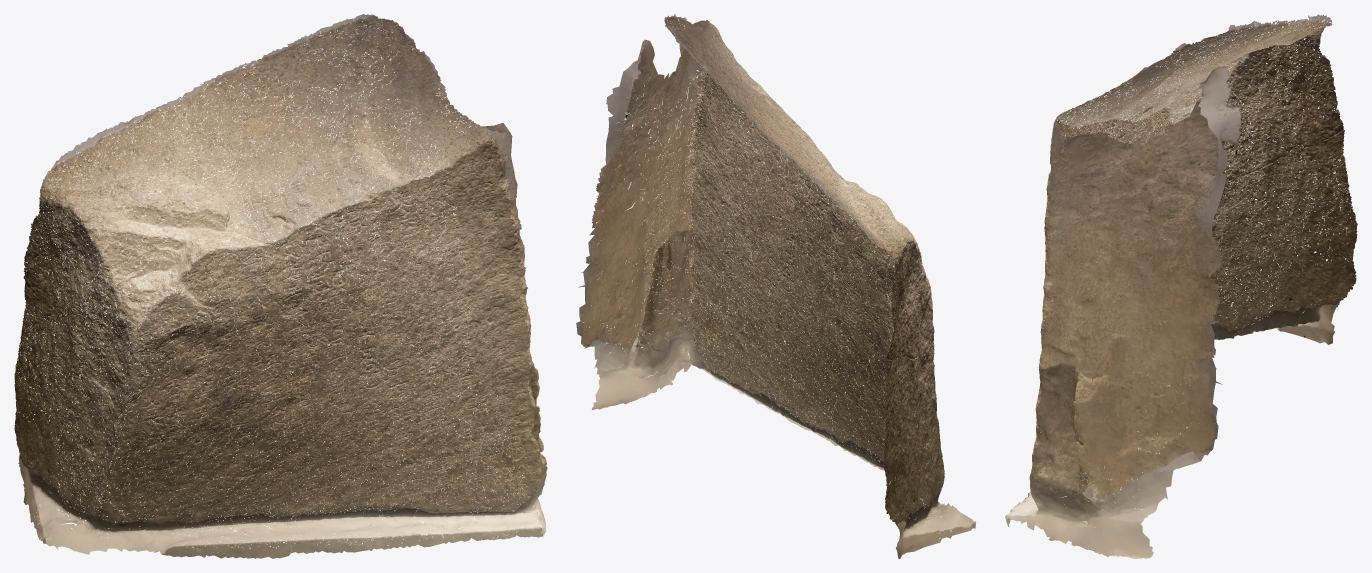
Rendered from naengsu.glb.
3 renders of one model, left to right at view 1: azimuth 30°, elevation 25°; view 2: azimuth 150°, elevation 25°; view 3: azimuth 270°, elevation 25°, orthographic. The views are drawn at different scales.
Parts seen in each view (by area): view 1: Object_4, Object_11, Object_6, Object_14, Object_2, Object_10, Object_12, Object_3, Object_7, Object_8, Object_15, Object_13 (+4 smaller); view 2: Object_2, Object_10, Object_11, Object_12, Object_13, Object_15, Object_3, Object_5, Object_7, Object_14, Object_4, Object_8 (+4 smaller); view 3: Object_13, Object_2, Object_14, Object_5, Object_7, Object_16, Object_15, Object_10, Object_12, Object_8, Object_9, Object_17 (+2 smaller).
Part boxes in pixels (left/top/right/bottom): Object_4: left=82, top=195, right=427, bottom=551; Object_11: left=160, top=369, right=428, bottom=558; Object_6: left=197, top=14, right=508, bottom=301; Object_14: left=100, top=60, right=525, bottom=324; Object_2: left=189, top=216, right=542, bottom=553; Object_10: left=193, top=371, right=547, bottom=558; Object_12: left=93, top=232, right=530, bottom=547; Object_3: left=260, top=160, right=521, bottom=444; Object_7: left=24, top=18, right=546, bottom=552; Object_8: left=34, top=14, right=527, bottom=554; Object_15: left=44, top=84, right=546, bottom=556; Object_13: left=14, top=171, right=527, bottom=525; Object_2: left=578, top=171, right=895, bottom=443; Object_10: left=594, top=237, right=884, bottom=468; Object_11: left=753, top=263, right=908, bottom=475; Object_12: left=610, top=143, right=931, bottom=454; Object_13: left=596, top=71, right=960, bottom=517; Object_15: left=591, top=21, right=929, bottom=468; Object_3: left=695, top=95, right=855, bottom=368; Object_5: left=588, top=44, right=975, bottom=538; Object_7: left=624, top=14, right=921, bottom=440; Object_14: left=607, top=19, right=923, bottom=290; Object_4: left=753, top=111, right=943, bottom=507; Object_8: left=576, top=16, right=970, bottom=518; Object_13: left=1044, top=86, right=1357, bottom=331; Object_2: left=1024, top=207, right=1222, bottom=501; Object_14: left=1044, top=19, right=1303, bottom=321; Object_5: left=1046, top=103, right=1283, bottom=340; Object_7: left=1009, top=21, right=1337, bottom=550; Object_16: left=1043, top=15, right=1355, bottom=305; Object_15: left=1006, top=14, right=1341, bottom=558; Object_10: left=1005, top=339, right=1173, bottom=522; Object_12: left=1040, top=76, right=1241, bottom=459; Object_8: left=1042, top=22, right=1323, bottom=453; Object_9: left=1047, top=65, right=1343, bottom=344; Object_17: left=1085, top=157, right=1356, bottom=349.
Size of the model in its own units: 0.72 by 0.7264 by 0.4869.
2 materials, 2 textured.
